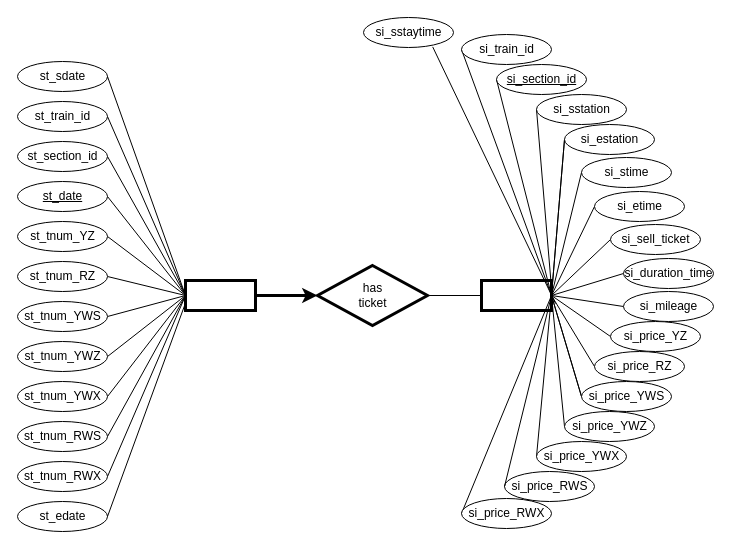
The diagram is 731 pixels wide and 549 high, and some of its shapes have lost their labels. The shapes that lost their labels are listed below. From the top down, each one's box as (x1, y1, x2, y2) in pixels, then its label:
(184, 278, 256, 312): sectionticket
(480, 278, 552, 312): sectioninfo
